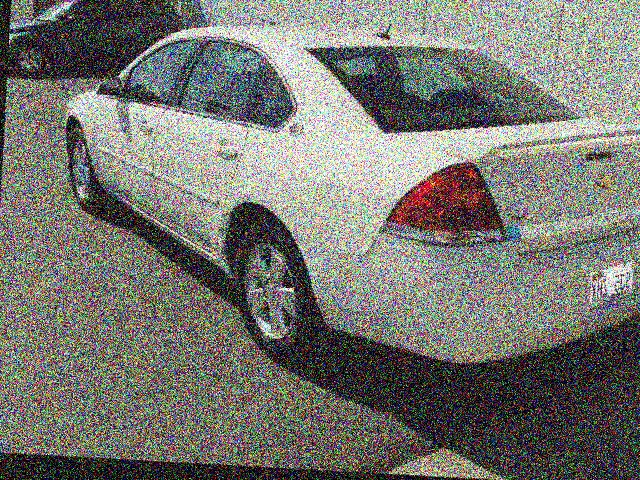car: (46, 0, 640, 392), (7, 0, 186, 83)
